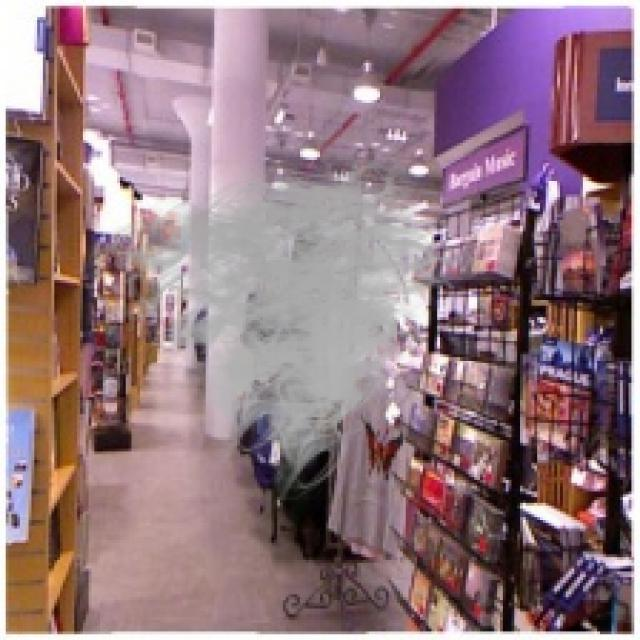Smoke: (80, 140, 472, 500)
